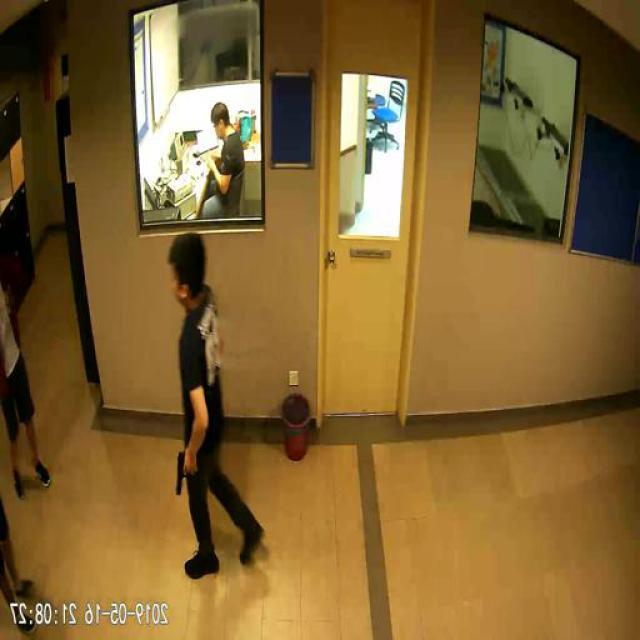Gun: (177, 450, 195, 495)
